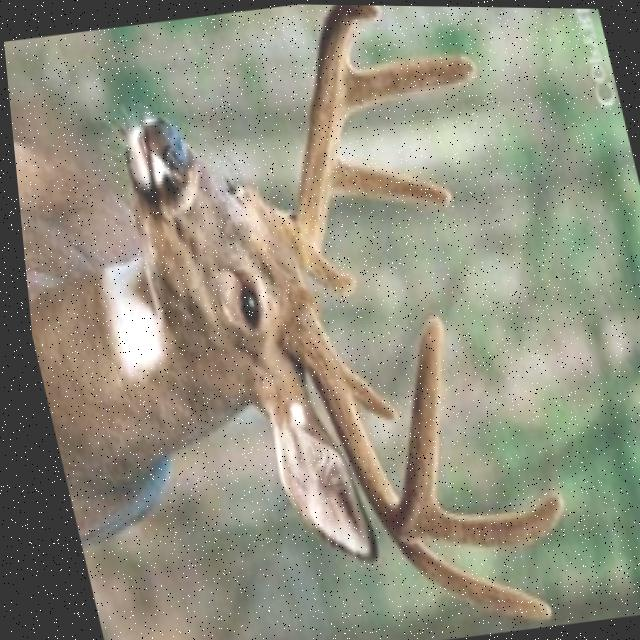L-F: (257, 4, 384, 270)
L-G1: (297, 251, 354, 299)
L-G2: (323, 158, 451, 206)
L-G3: (343, 50, 477, 115)
R-F: (272, 298, 439, 541)
R-G1: (333, 356, 392, 421)
R-G2: (383, 541, 545, 621)
R-G3: (410, 486, 554, 548)
